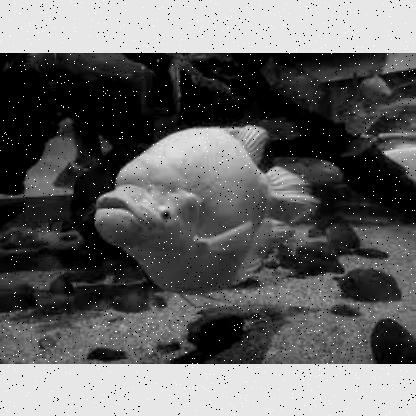gurame: (92, 120, 302, 302)
